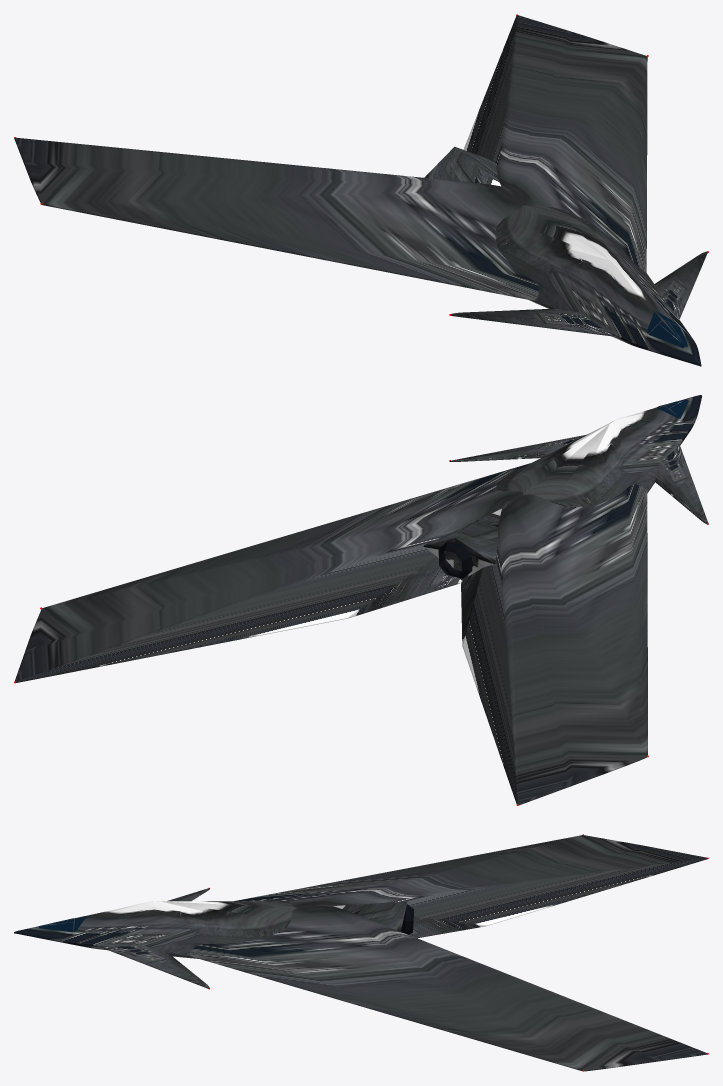
The model's file is assets-game3.glb.
3 renders of one model, top to bottom at view 1: azimuth 30°, elevation 25°; view 2: azimuth 150°, elevation 25°; view 3: azimuth 270°, elevation 25°, orthographic. The views are drawn at different scales.
Visible parts, largest first — view 1: spaceshipaqy_6; view 2: spaceshipaqy_6; view 3: spaceshipaqy_6.
Boxes of the visible parts, left/top/right/bottom form: spaceshipaqy_6: left=14, top=15, right=707, bottom=366; spaceshipaqy_6: left=15, top=395, right=708, bottom=805; spaceshipaqy_6: left=14, top=835, right=707, bottom=1071.
Size of the model in its own units: 2.95 by 0.322 by 3.66.
Materials: 5 (1 with a texture image).
